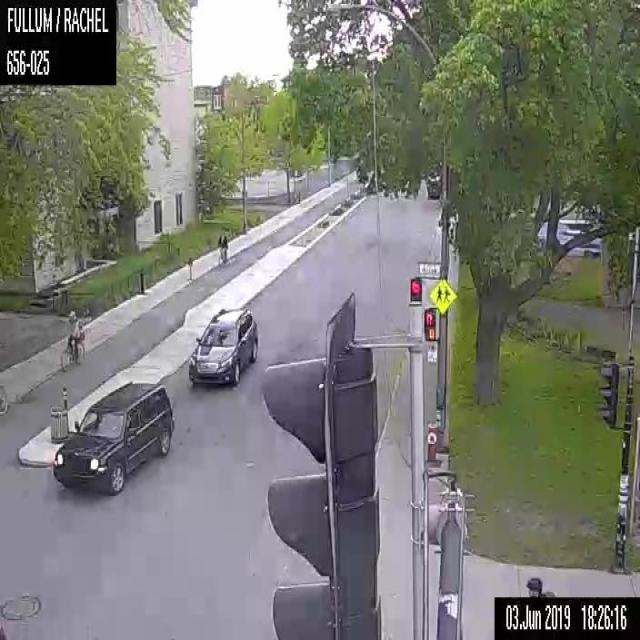cyclist: (59, 309, 86, 371), (0, 382, 6, 414)
pedestrian: (526, 576, 542, 597), (218, 233, 225, 264), (222, 234, 228, 262)
vehicle: (52, 380, 175, 495), (188, 307, 256, 384), (426, 177, 440, 198)
